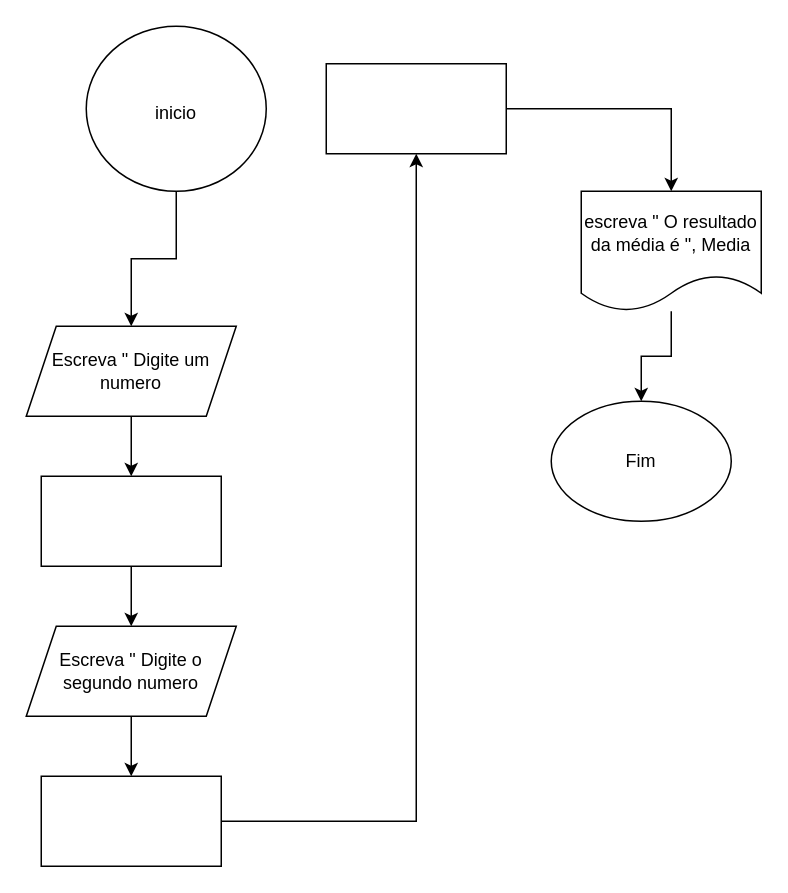
Some shapes in this 788 by 893 pixel diagram are drawn without their labels. Here are the shapes that lost their labels. From the top down, the box of each, then its label:
(325, 62, 506, 154): Media = (n1+ n2)/2
(40, 475, 221, 566): Leia n1
(40, 775, 221, 866): leia n2
